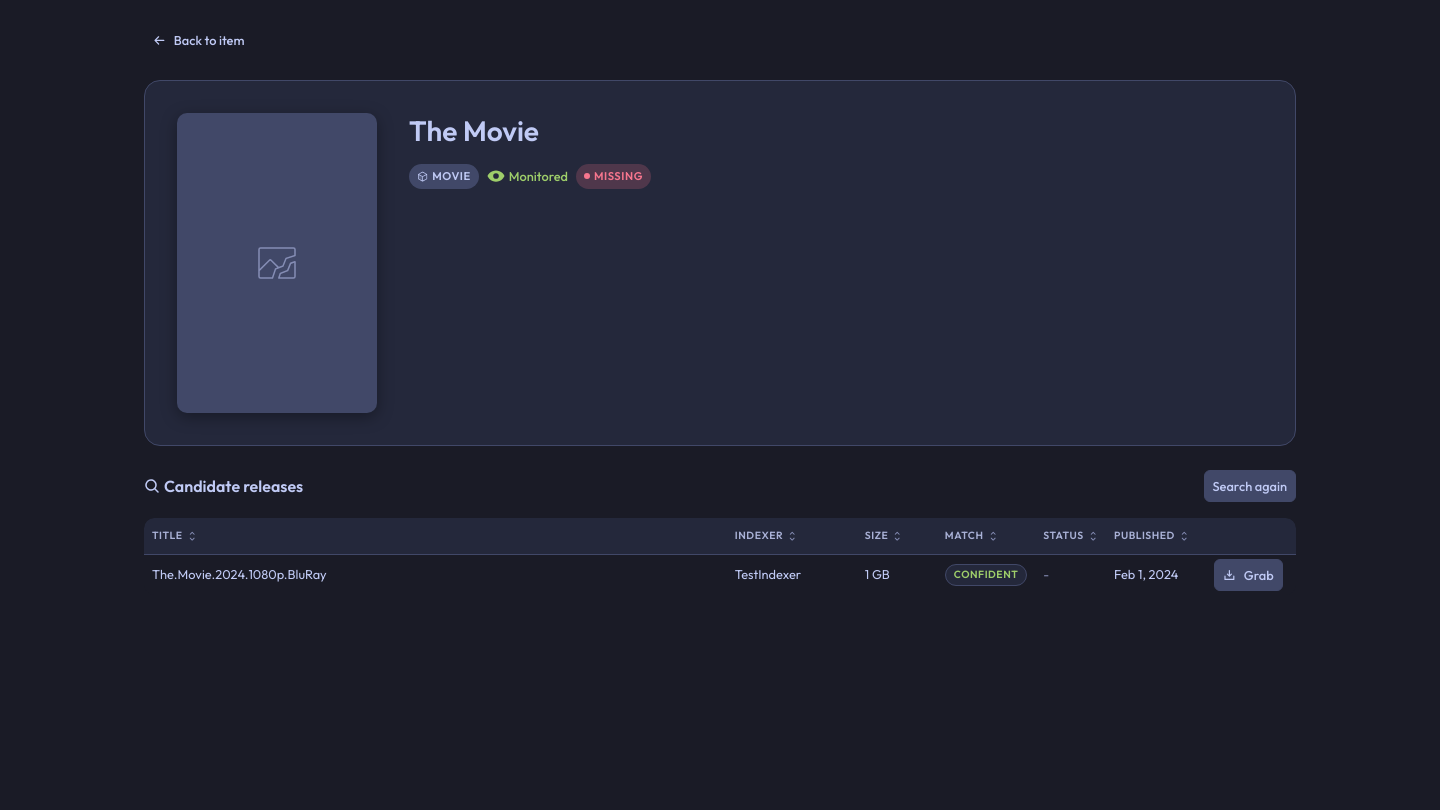
Test: InteractiveSearchPage › reports the actual grab failure: The download client timed out
Click the button "Grab".
click(1248, 575)  # box [1214,559,1283,591]
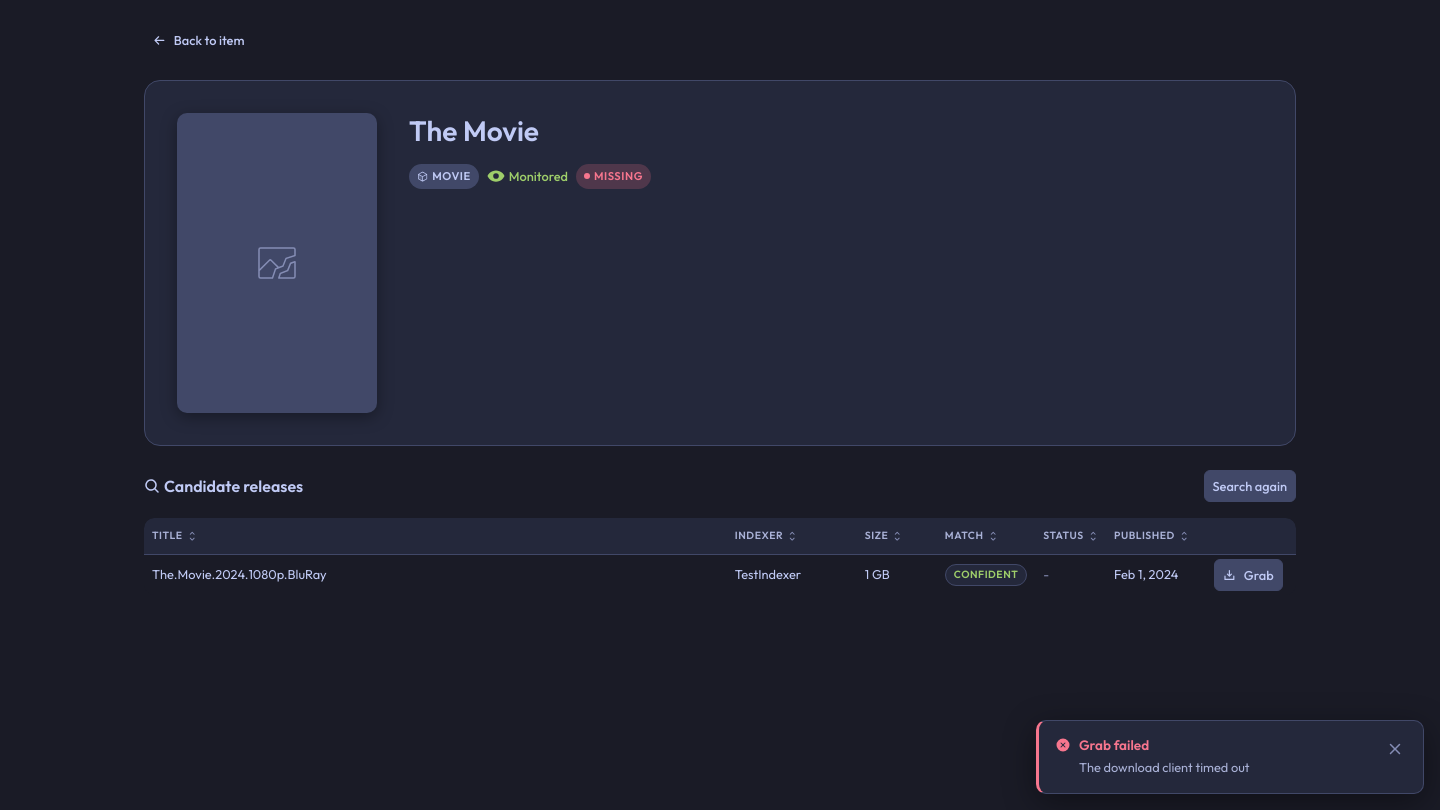
Check: the text "Grab failed" is shown, box [1079,736,1149,754]
Check: the text "The download client timed out" is shown, box [1079,758,1250,777]
